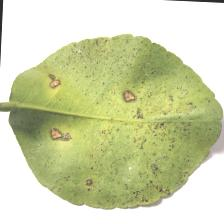canker: (112, 60, 189, 181)
